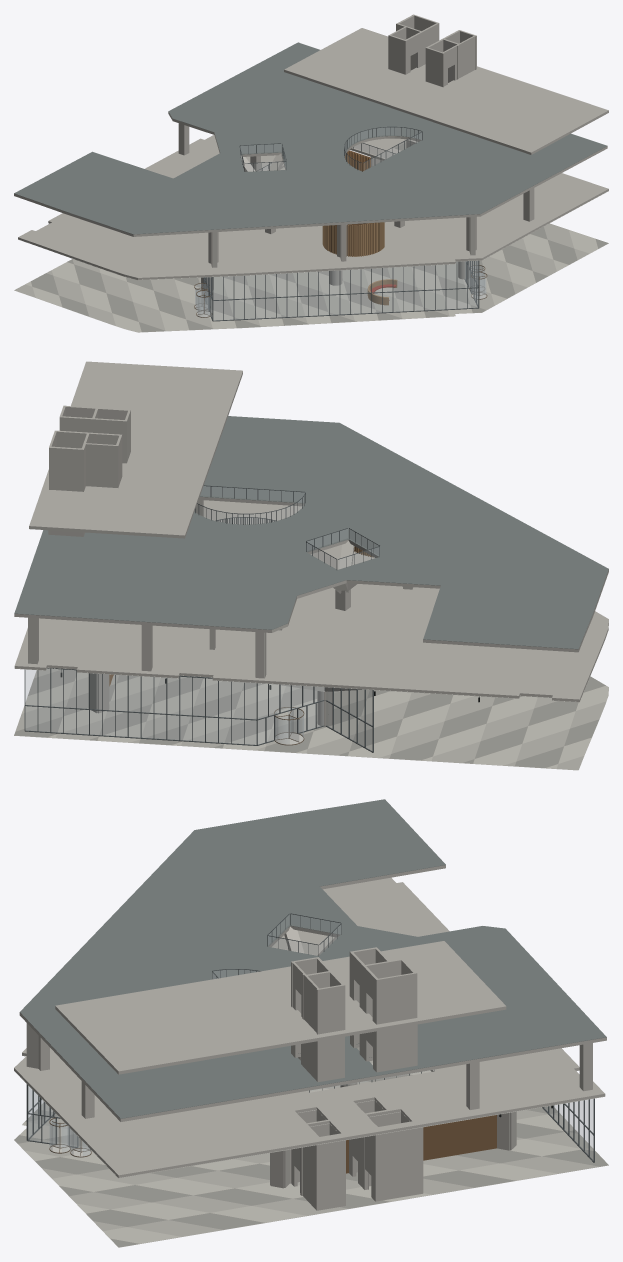
File: mar-interior.glb
3 views of the same model, one above another, from view 1: azimuth 30°, elevation 25°; view 2: azimuth 150°, elevation 25°; view 3: azimuth 270°, elevation 25° (orthographic). The views are drawn at different scales.
Parts seen in each view (by area): view 1: MAR_INTERIOR; view 2: MAR_INTERIOR; view 3: MAR_INTERIOR.
Part boxes in pixels (left/top/right/bottom): MAR_INTERIOR: left=14, top=14, right=608, bottom=332; MAR_INTERIOR: left=14, top=361, right=608, bottom=770; MAR_INTERIOR: left=14, top=799, right=608, bottom=1247.
Size of the model in its own units: 67.69 by 21.8 by 53.21.
